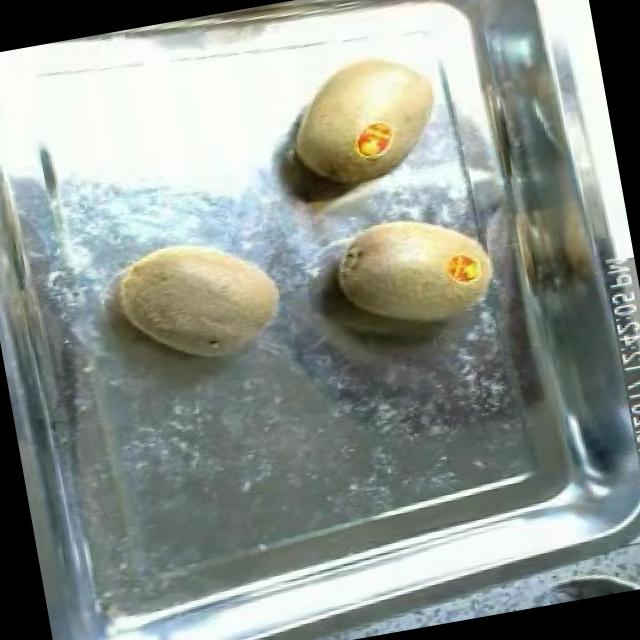Fruit: (96, 220, 298, 384), (270, 31, 462, 201), (316, 192, 512, 350)
